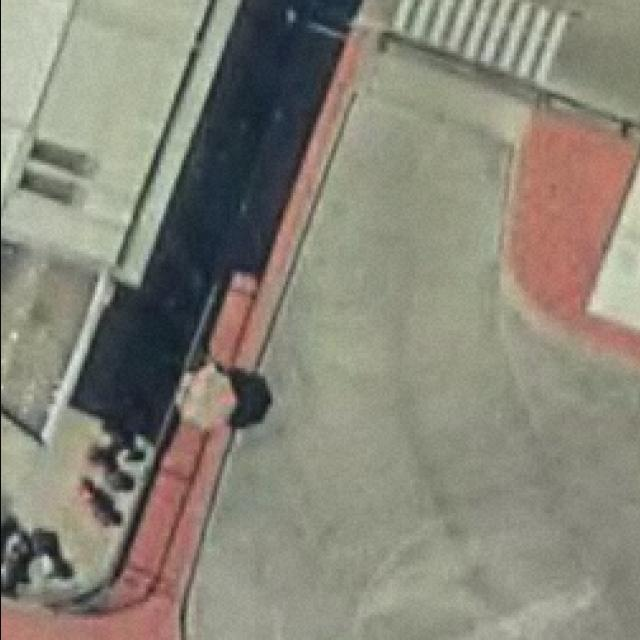vendedor_ambulante: (172, 362, 242, 434)
